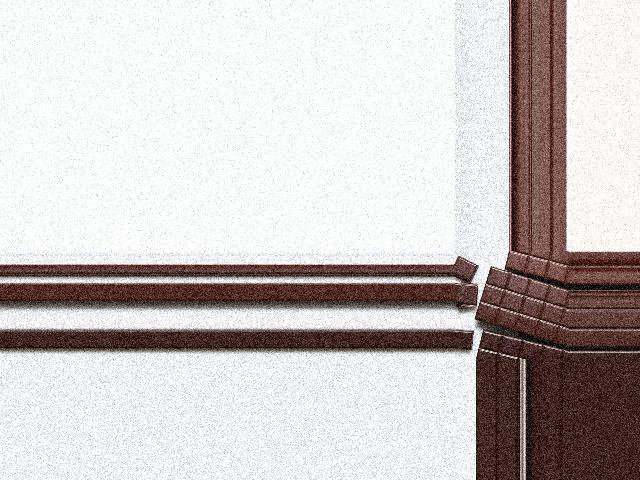chocolate: (476, 264, 570, 344)
